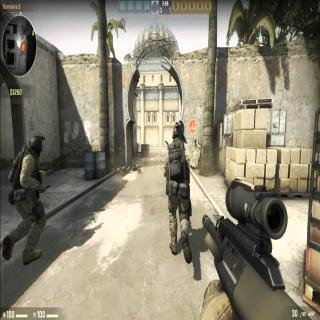CT-Body: (0, 130, 48, 268), (160, 116, 203, 265)
CT-Head: (27, 130, 43, 162), (170, 118, 188, 144)
